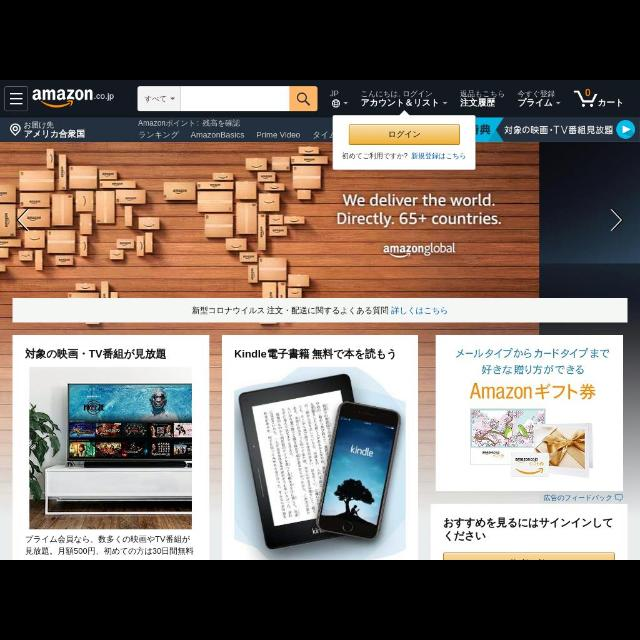backgroundimage: (1, 142, 640, 558)
button: (291, 86, 317, 110), (6, 85, 28, 112), (616, 120, 636, 138)
icon: (572, 90, 598, 108), (18, 206, 30, 232), (610, 208, 622, 232), (10, 92, 22, 106), (298, 92, 310, 106), (10, 124, 22, 136), (616, 494, 622, 502), (170, 96, 178, 102), (334, 101, 341, 107), (344, 101, 350, 105), (443, 100, 447, 106), (556, 100, 560, 106)
image: (234, 368, 406, 558), (30, 367, 192, 529), (470, 408, 592, 478), (30, 84, 116, 110), (382, 242, 456, 258)
input: (182, 88, 290, 112)
multitab: (128, 116, 306, 142)
spinner: (359, 90, 448, 108), (138, 85, 180, 111), (516, 89, 562, 109)
text: (338, 194, 502, 228), (444, 518, 614, 542), (456, 350, 612, 374), (24, 535, 194, 557), (192, 305, 446, 315), (470, 384, 596, 401), (234, 348, 396, 360), (26, 348, 166, 360), (361, 90, 439, 108), (341, 152, 465, 160), (503, 126, 612, 134), (460, 88, 506, 106), (544, 493, 612, 502), (519, 92, 555, 106), (24, 130, 86, 138), (191, 119, 241, 127), (138, 131, 180, 139), (190, 132, 244, 138), (138, 120, 186, 126), (144, 93, 168, 105), (256, 132, 300, 138), (24, 121, 54, 129), (600, 100, 622, 108), (480, 124, 490, 136), (331, 89, 339, 97)
textbutton: (348, 126, 459, 144)
toolbar: (0, 82, 638, 115)
